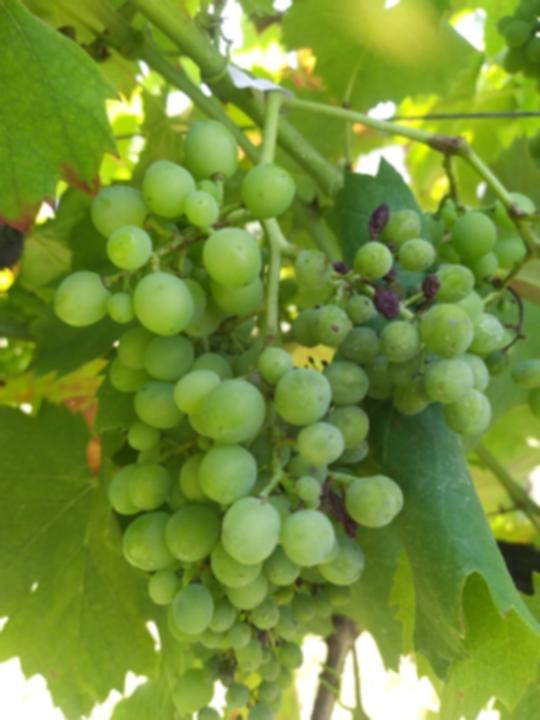grape: (50, 110, 513, 707)
